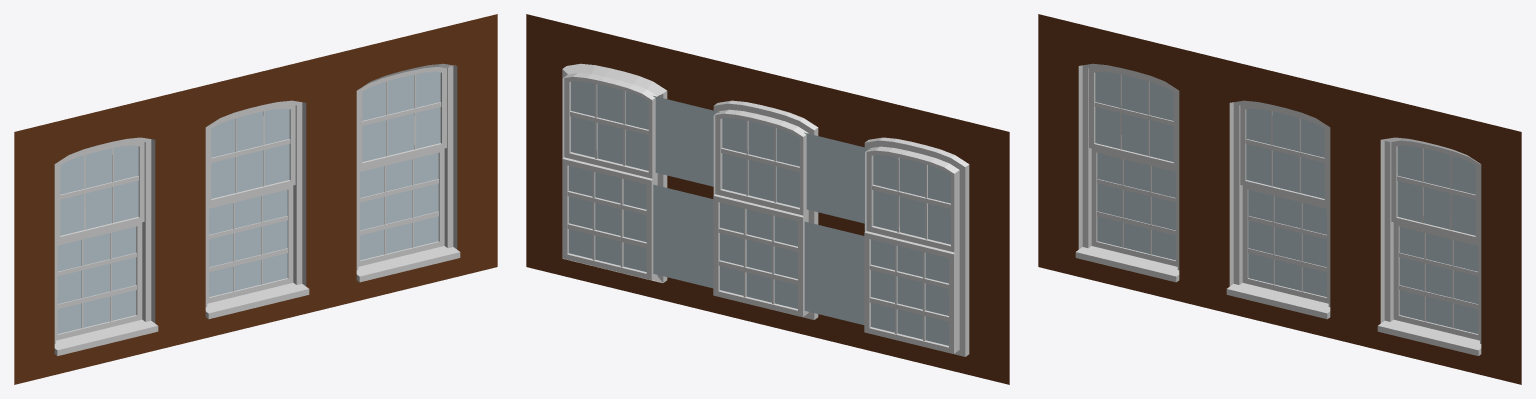
Rendered from wallModule.fbx.
3 views of the same model, side by side, from view 1: azimuth 30°, elevation 25°; view 2: azimuth 150°, elevation 25°; view 3: azimuth 330°, elevation 25° (orthographic).
Parts seen in each view (by area): view 1: MiddleWall.002; view 2: MiddleWall.002; view 3: MiddleWall.002.
Part boxes in pixels (bbox=[...]): MiddleWall.002: bbox=[14, 14, 497, 384]; MiddleWall.002: bbox=[526, 14, 1009, 384]; MiddleWall.002: bbox=[1038, 14, 1521, 384].
Size of the model in its own units: 600 by 300 by 27.57.
